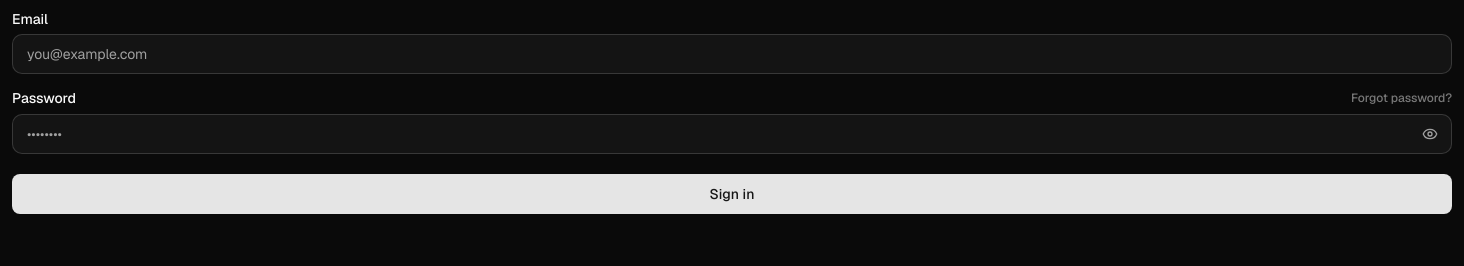
Test: EmailPasswordForm › shows a friendly error for a rejected sign in
The image size is (1464, 266).
Type "user@example.com" into the field labelled "Email" at (732, 54), box 12,34 -> 1452,74
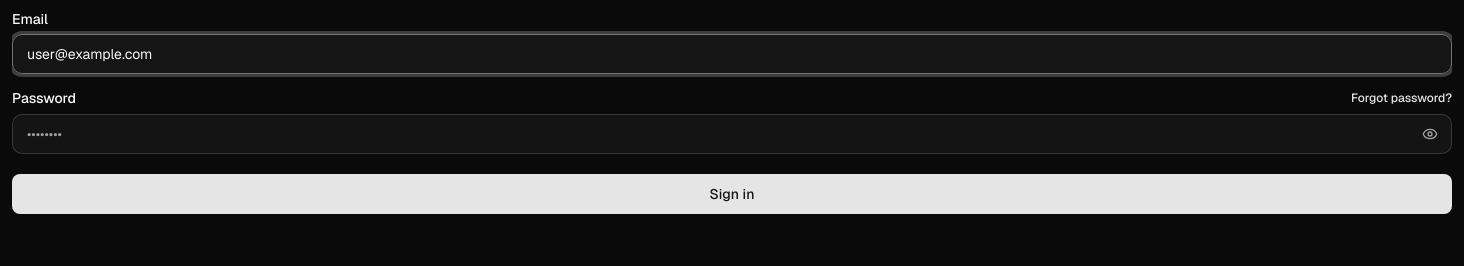
Type "secret123" into the password field labelled "Password" at (732, 134), box 12,114 -> 1452,154
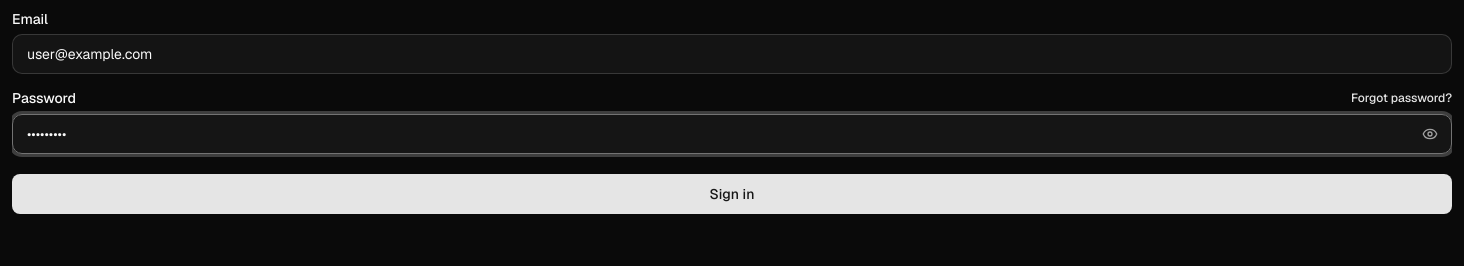
Click the button "Sign in" at (732, 194), box 12,174 -> 1452,214
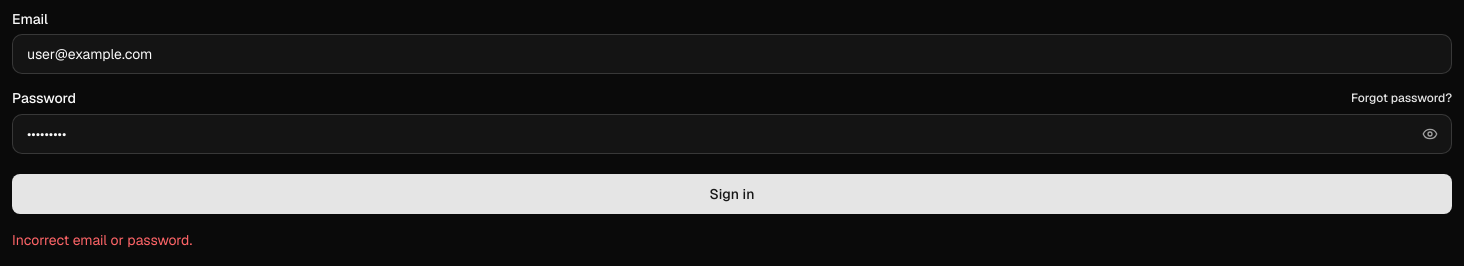
Expected: the message reads "Incorrect email or password.", 12,231 -> 192,249
